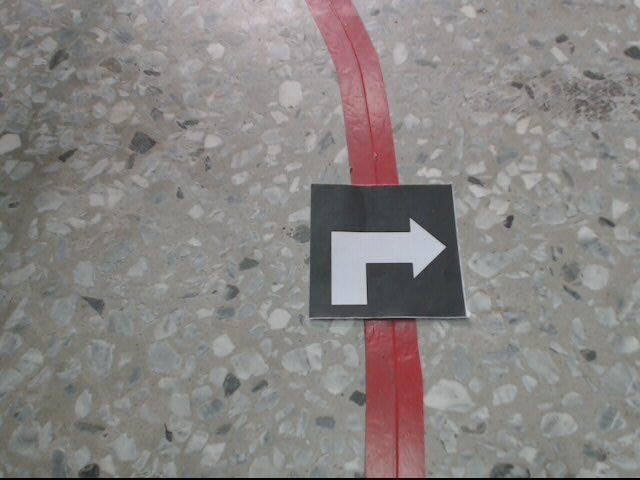right: (309, 181, 470, 318)
